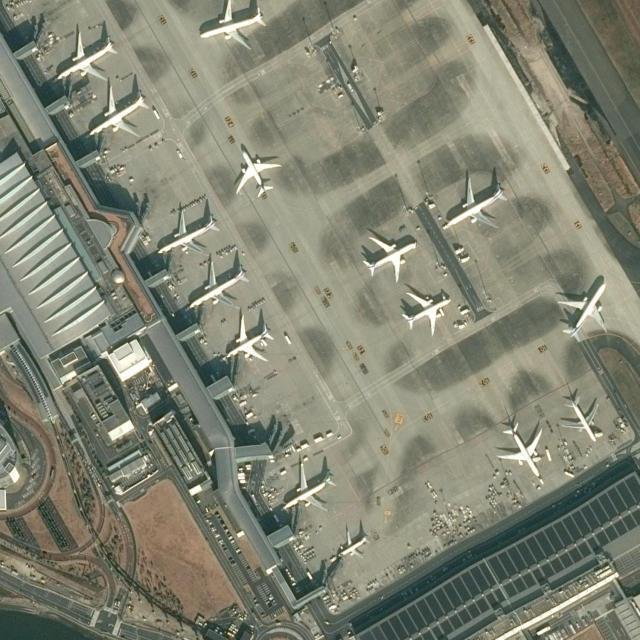Aircraft: (441, 176, 510, 234), (557, 271, 611, 339), (88, 85, 151, 141), (187, 258, 248, 314), (53, 27, 113, 83), (154, 208, 215, 260), (280, 462, 336, 517), (200, 0, 266, 45), (393, 289, 458, 334), (360, 233, 423, 279), (222, 311, 274, 365), (230, 144, 278, 199), (497, 422, 545, 473), (562, 391, 602, 441), (334, 531, 368, 557)
